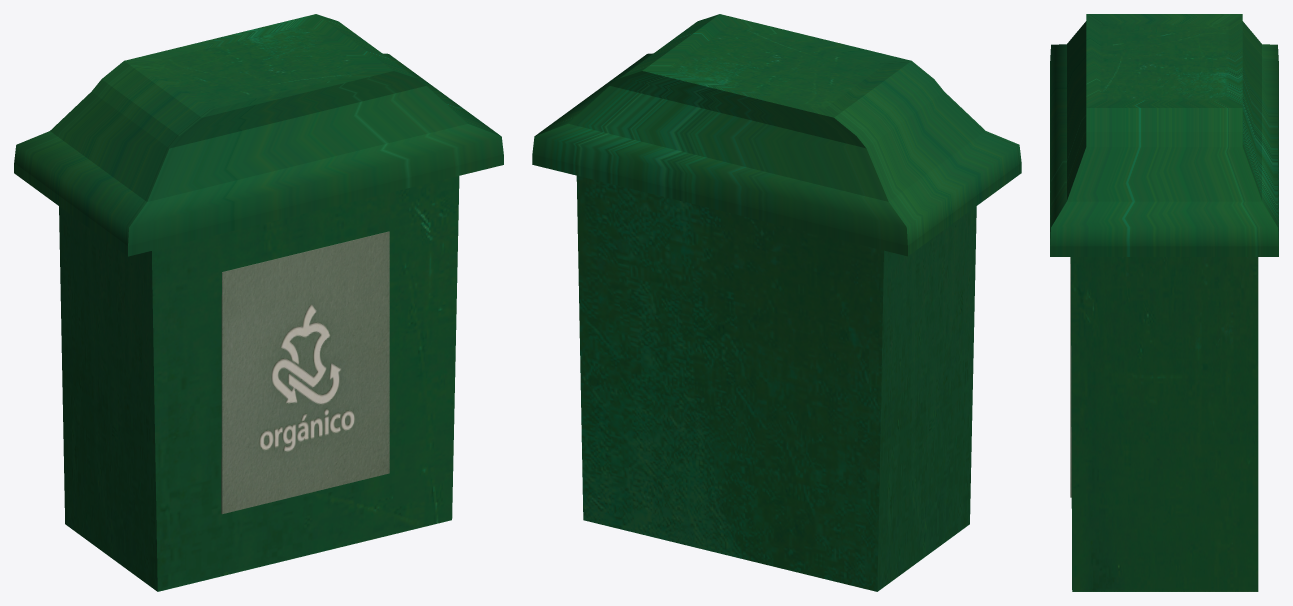
The model's file is Caneca.fbx.
3 views of the same model, side by side, from view 1: azimuth 30°, elevation 25°; view 2: azimuth 150°, elevation 25°; view 3: azimuth 270°, elevation 25° (orthographic).
Visible parts, largest first — view 1: Caneca, Box008; view 2: Caneca; view 3: Caneca, Box008.
Boxes of the visible parts, x1,y1,x2,y2 form: Caneca: (14, 14, 503, 591); Box008: (221, 231, 389, 514); Caneca: (532, 14, 1021, 591); Caneca: (1050, 14, 1278, 591); Box008: (1070, 257, 1071, 497).
Bounding box in the file's own units: 3.96 × 4.59 × 2.08.
